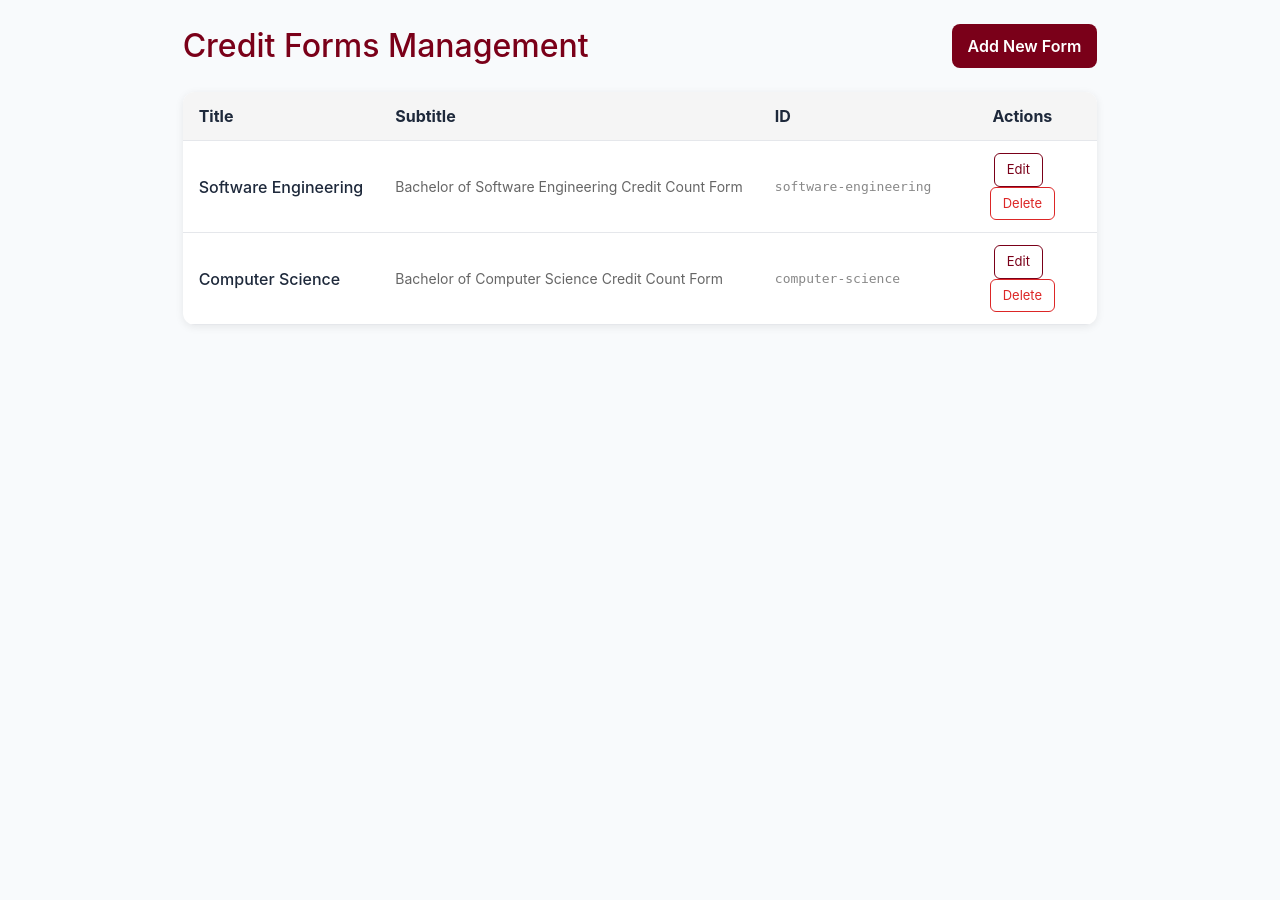
CreditFormManager › Add Form Modal › should close modal when Cancel is clicked
Expected: the text "Software Engineering" is shown, 183,140 -> 379,232
Click the button "Add New Form": (1024, 46) 952,24 -> 1097,68
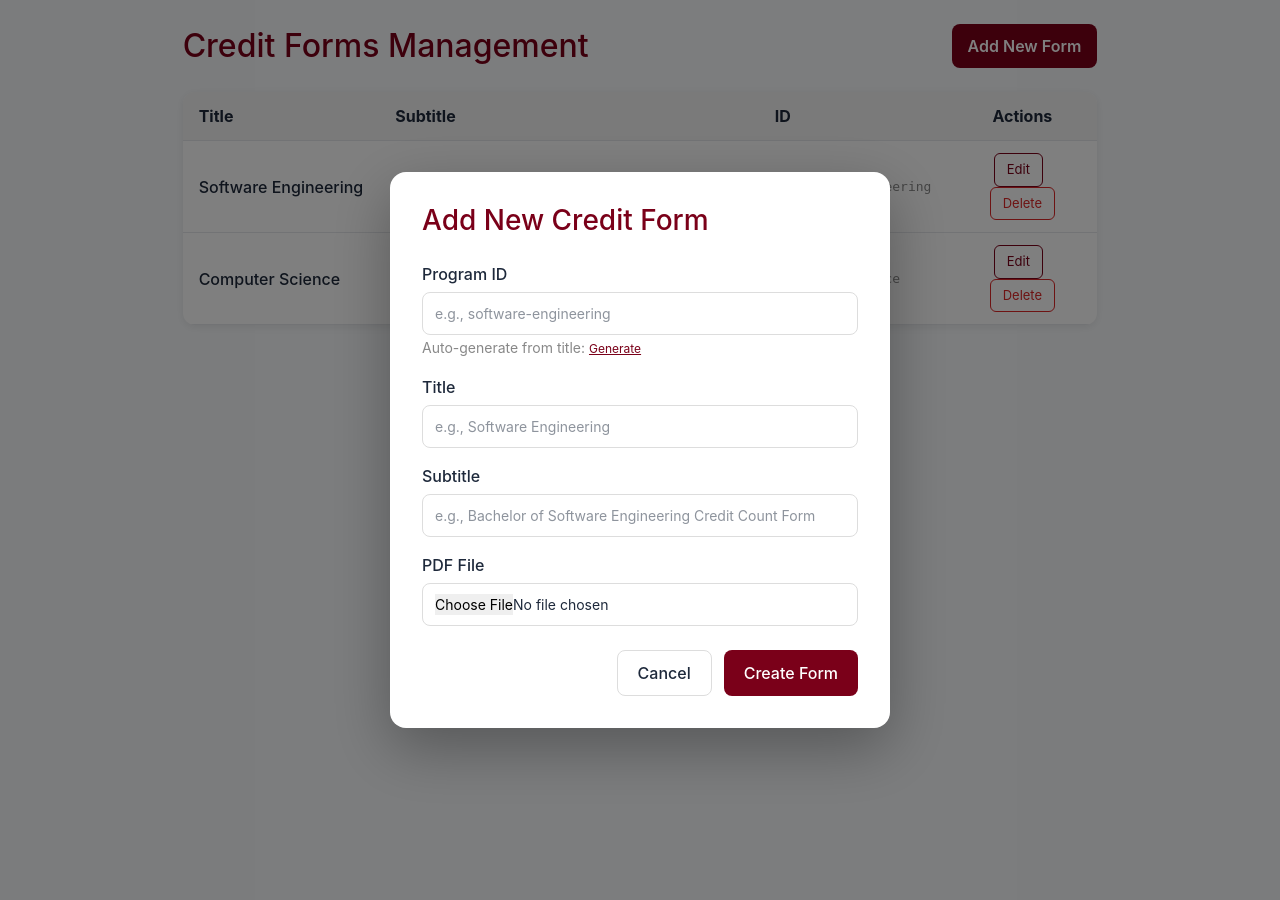
Result: the heading "Add New Credit Form" is shown at 422,203 -> 709,237
Click the button "Cancel": (664, 673) 617,650 -> 712,696
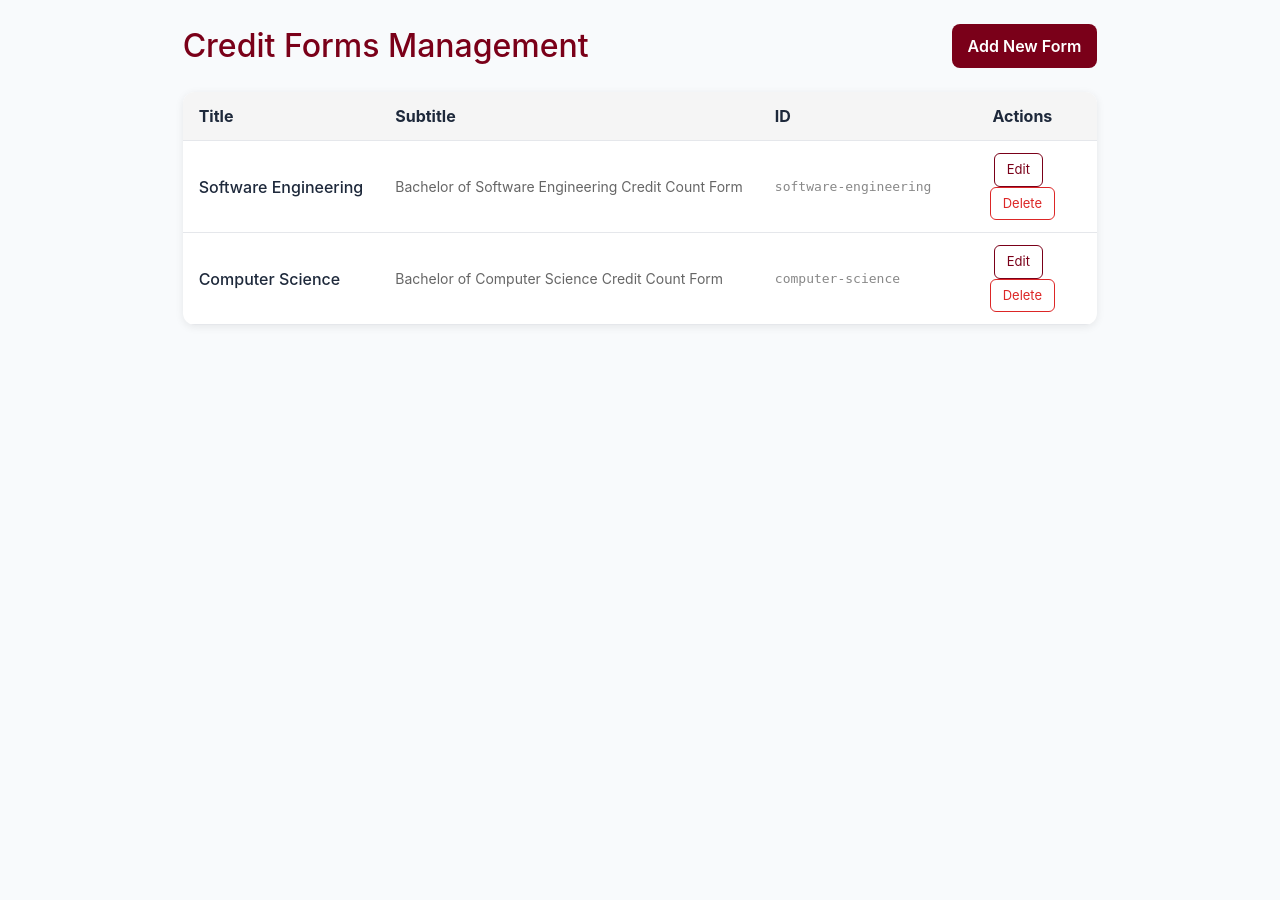
Result: the heading "Add New Credit Form" is gone
